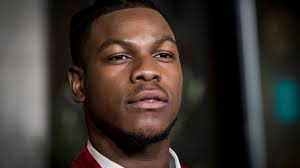no-mask: (79, 9, 192, 146)
